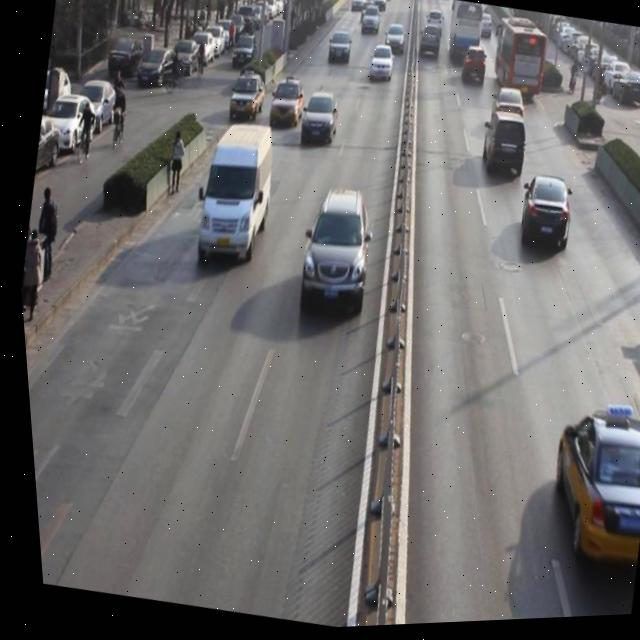car: (526, 401, 640, 579), (287, 186, 381, 322), (509, 172, 578, 266), (473, 113, 532, 188), (222, 66, 270, 128), (293, 94, 342, 153), (483, 87, 529, 144), (263, 76, 306, 136), (455, 48, 488, 94), (413, 21, 445, 66), (366, 47, 398, 89), (323, 34, 356, 73), (380, 27, 408, 63), (358, 10, 382, 43)
truck: (184, 120, 285, 273)
van: (483, 19, 552, 110), (440, 3, 486, 70)
